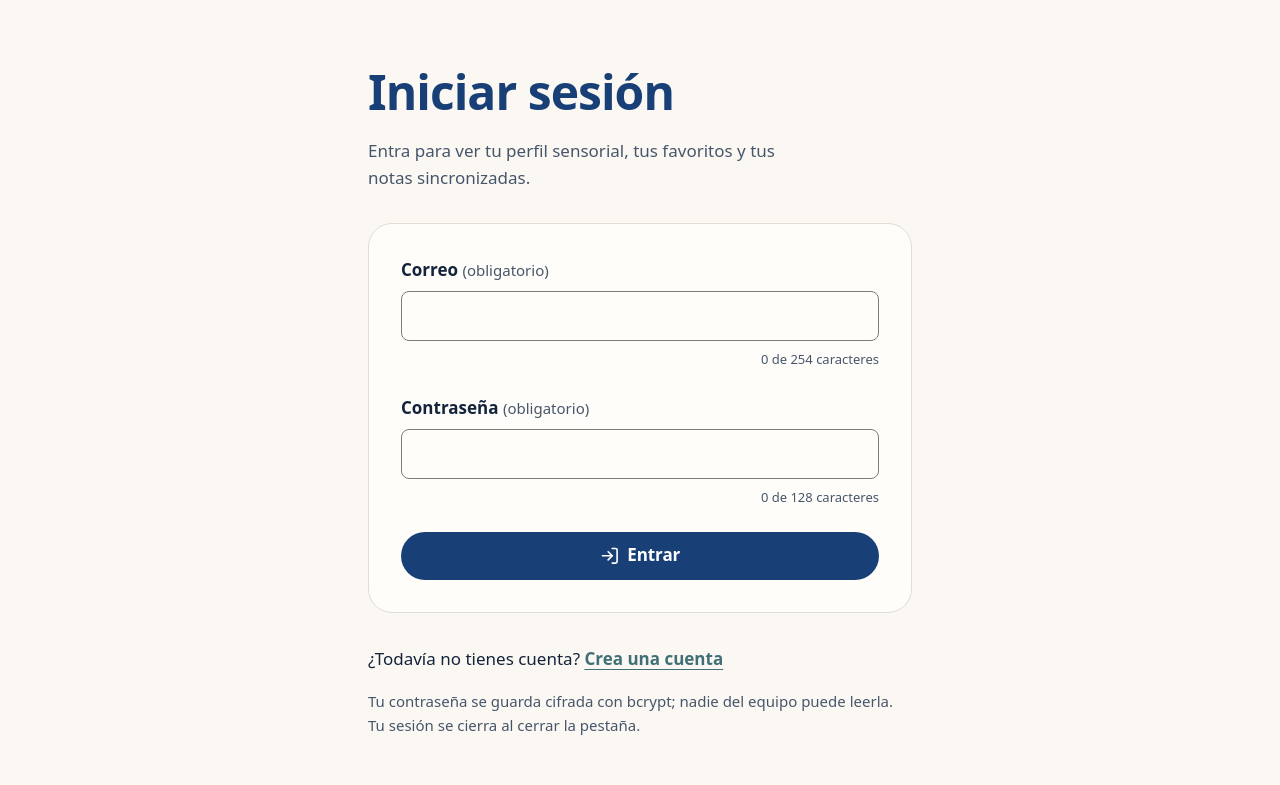
Scenario: Cuentas (API) › inicio de sesión correcto lleva al perfil y guarda la sesión solo en la pestaña
Type "a@b.test" into the field labelled "Correo (obligatorio)" at (640, 316), box [401, 291, 879, 341]
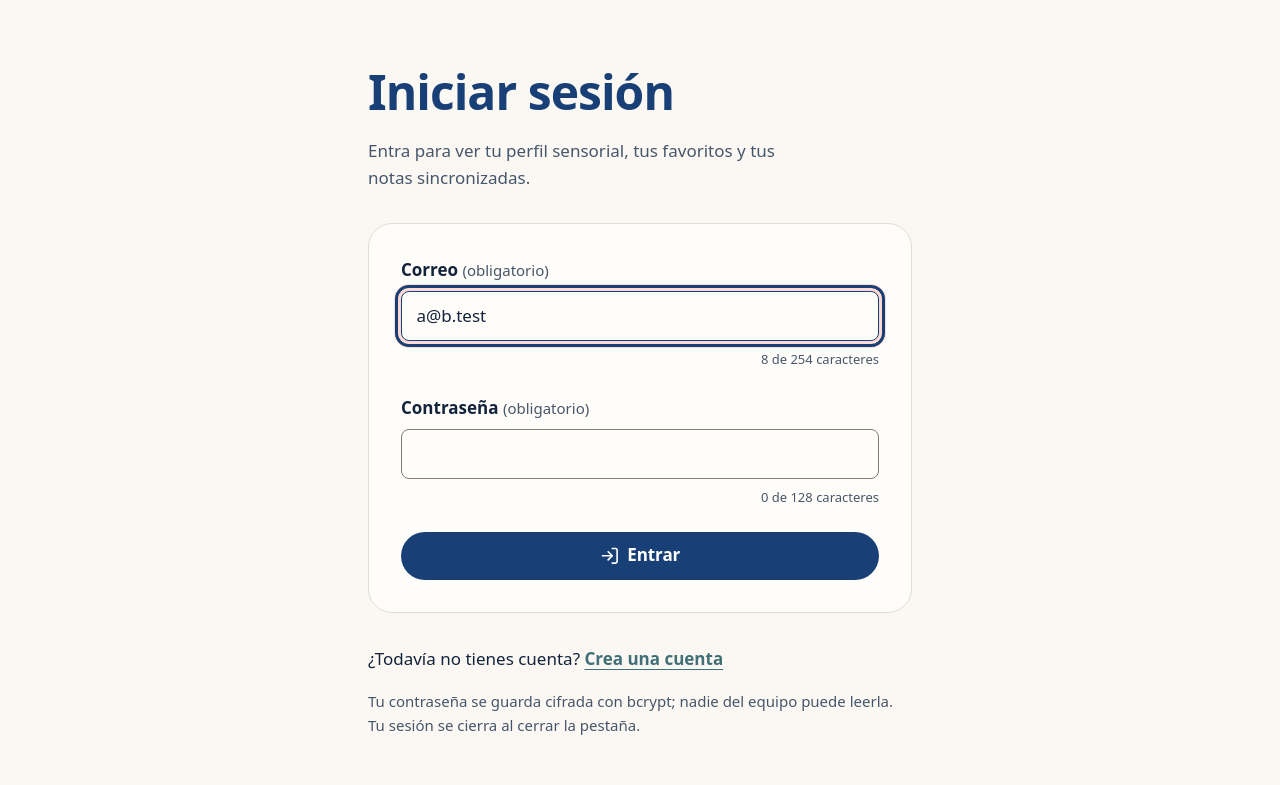
Type "loquesea" into the password field labelled "Contraseña (obligatorio)" at (640, 454), box [401, 429, 879, 479]
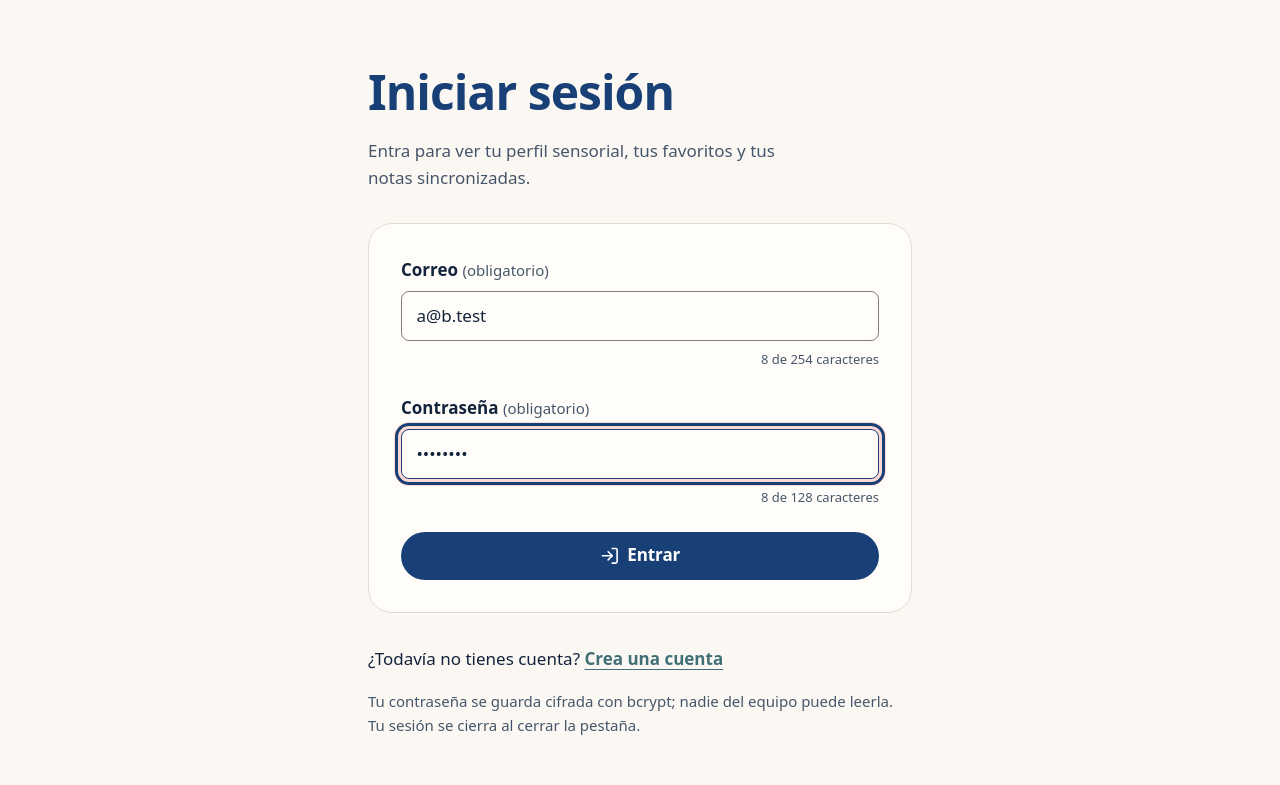
Click the button "Entrar" at (640, 556), box [401, 532, 879, 580]
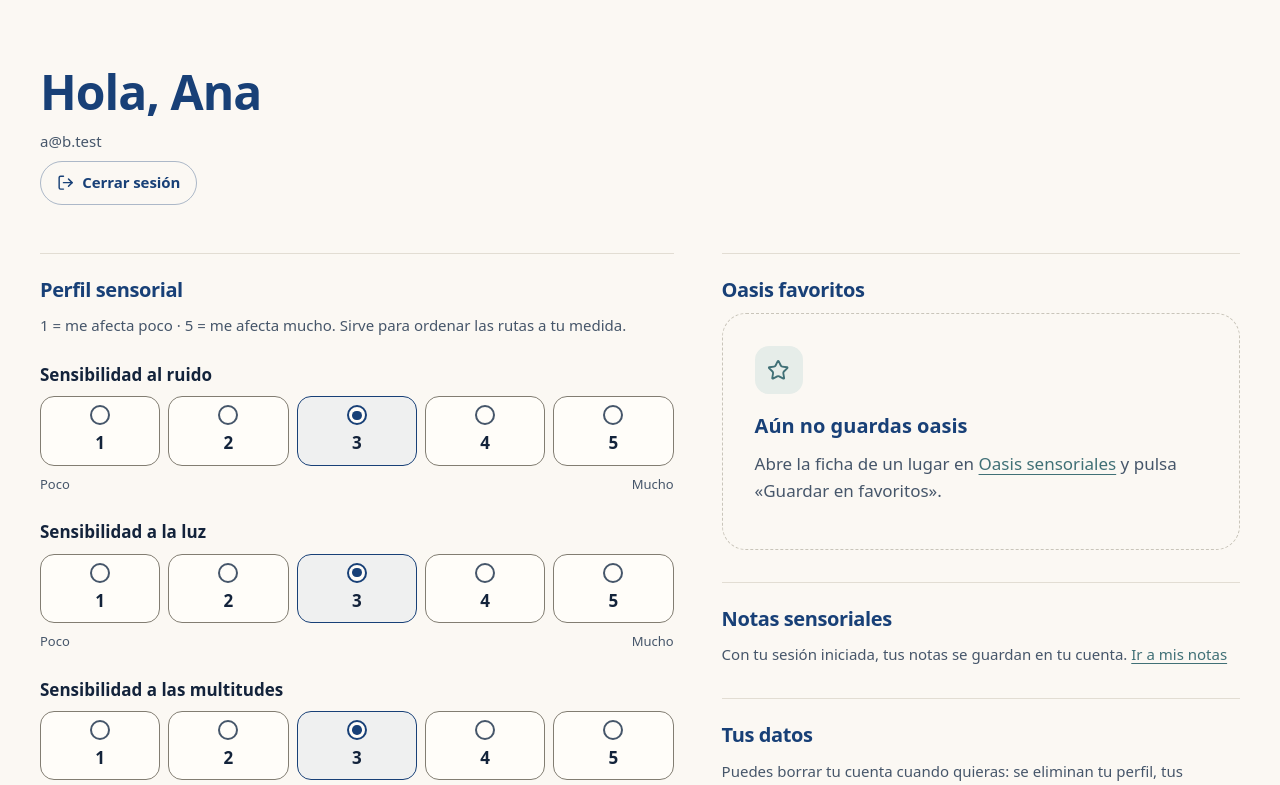
Check: the heading "Hola, Ana" is shown, box [40, 64, 261, 121]
